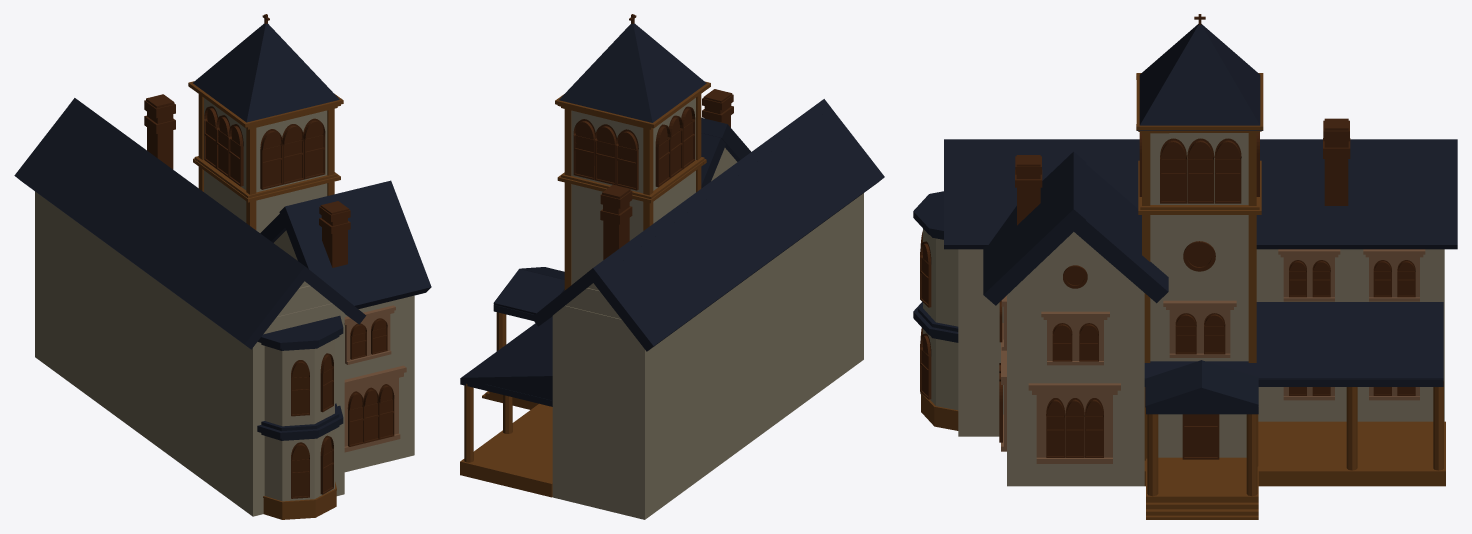
Rendered from houseasset.fbx.
The picture shows the model from 3 angles, left to right: view 1: azimuth 30°, elevation 25°; view 2: azimuth 150°, elevation 25°; view 3: azimuth 270°, elevation 25°; orthographic projection. The views are drawn at different scales.
Visible parts, largest first — view 1: Cube, Cube.011, Cube.010, Cone, Cylinder, Cube.017, Cube.001, Circle.005, Circle.011, Circle.019, Circle.006, pillars (+11 smaller); view 2: Cube, Cube.011, Cone, Cube.001, Cube.005, Cube.004, Circle.007, pillars, Cube.006, Circle.006, chimney, Cube.010 (+4 smaller); view 3: Cube.011, Cube.017, Cube.004, Cube, Cube.001, Cube.010, Cube.005, Cone, Cube.006, Circle.004, Cube.007, Cylinder (+25 smaller).
Part boxes in pixels (x1,y1,x2,y2): Cube: [35, 191, 344, 516]; Cube.011: [14, 98, 366, 349]; Cube.010: [260, 180, 431, 308]; Cone: [193, 23, 339, 122]; Cylinder: [264, 339, 334, 501]; Cube.017: [274, 230, 414, 472]; Cube.001: [204, 98, 327, 232]; Circle.005: [260, 118, 325, 189]; Circle.011: [291, 353, 333, 498]; Circle.019: [347, 384, 394, 446]; Circle.006: [204, 106, 243, 186]; pillars: [198, 94, 334, 229]; Cube: [552, 193, 863, 519]; Cube.011: [531, 99, 884, 351]; Cone: [559, 23, 706, 122]; Cube.001: [571, 98, 695, 284]; Cube.005: [460, 403, 552, 497]; Cube.004: [460, 316, 552, 406]; Circle.007: [573, 119, 638, 190]; pillars: [564, 94, 701, 290]; Cube.006: [493, 267, 564, 320]; Circle.006: [655, 106, 695, 187]; chimney: [600, 184, 632, 259]; Cube.010: [701, 117, 750, 188]; Cube.011: [944, 139, 1457, 249]; Cube.017: [1007, 232, 1144, 486]; Cube.004: [1144, 302, 1443, 386]; Cube: [958, 249, 1444, 436]; Cube.001: [1150, 133, 1248, 457]; Cube.010: [983, 151, 1168, 305]; Cube.005: [1144, 421, 1445, 486]; Cone: [1137, 24, 1262, 130]; Cube.006: [1145, 360, 1258, 414]; Circle.004: [1160, 138, 1241, 203]; Cube.007: [1146, 457, 1258, 502]; Cylinder: [923, 229, 958, 410].
Bounding box in the file's own units: 921 × 818 × 567.
